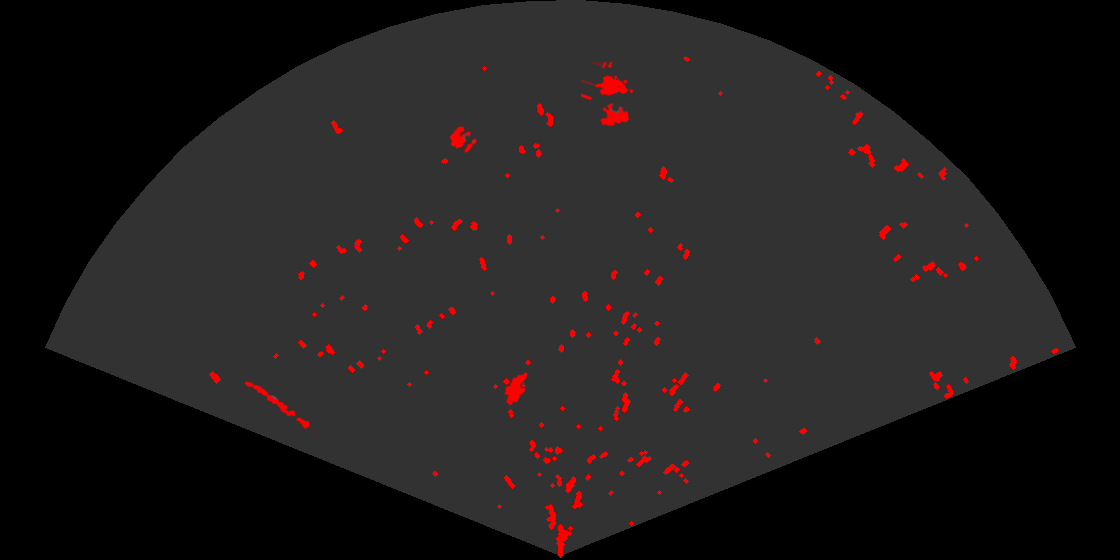AUV: (503, 371, 530, 407)
ball: (448, 125, 478, 154)
cage: (581, 62, 635, 128)
chain: (243, 380, 320, 434)
